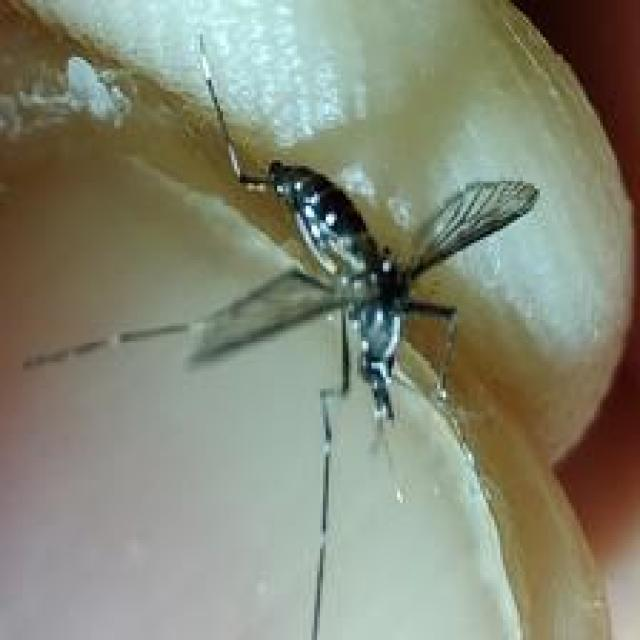Aedes albopictus: (20, 31, 546, 640)
